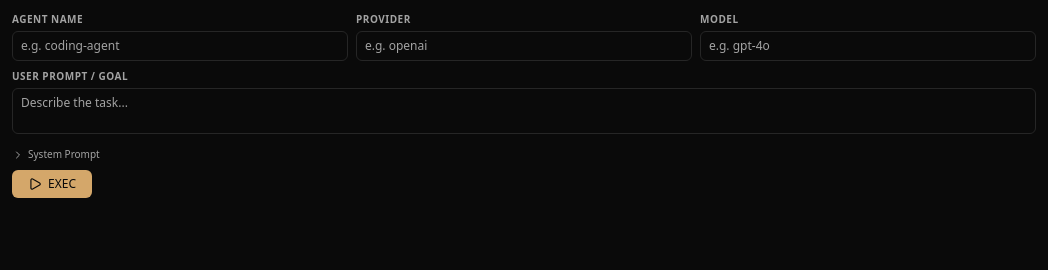
Scenario: LaunchConsole › toggles system prompt
The image size is (1048, 270).
Click the button "System Prompt". click: (56, 154)
box: x1=12 y1=147 x2=100 y2=162
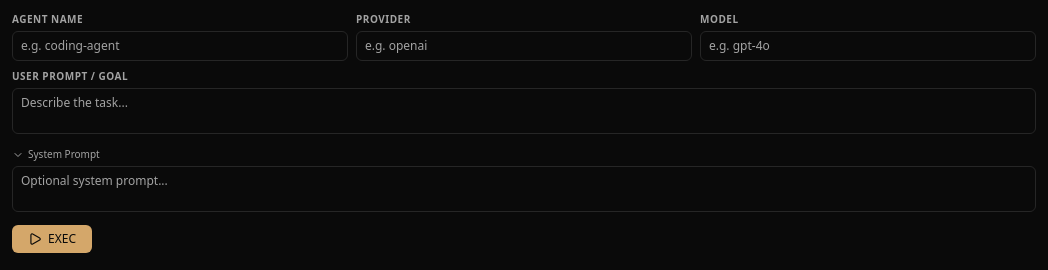
Result: the text box with placeholder "Optional system prompt..." is shown at x1=12 y1=166 x2=1036 y2=212
